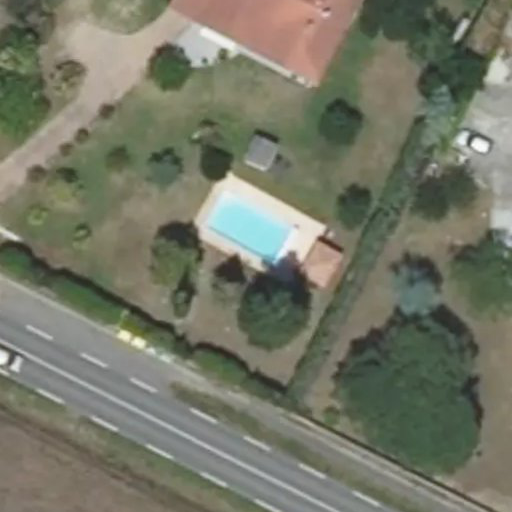pool: (209, 239, 302, 244)
